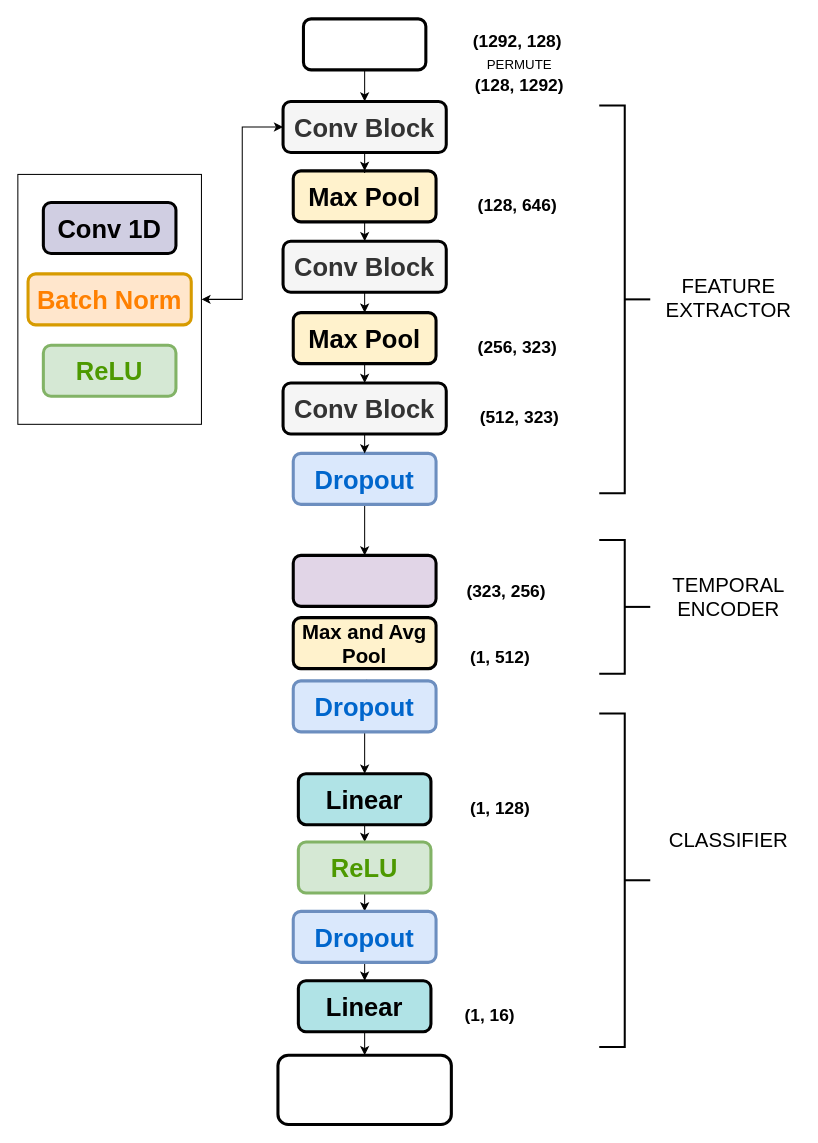
The diagram is 818 pixels wide and 1143 high, and some of its shapes have lost their labels. Each missing label, with the centre of its shape:
"Input" belongs at pixel 364 44.
"LSTM" belongs at pixel 364 580.
"Output (predictions)" belongs at pixel 364 1089.
